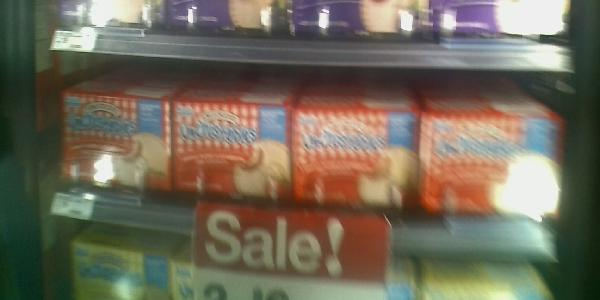icecream: (423, 97, 563, 216), (290, 89, 420, 210), (174, 86, 296, 214), (49, 80, 170, 196)
